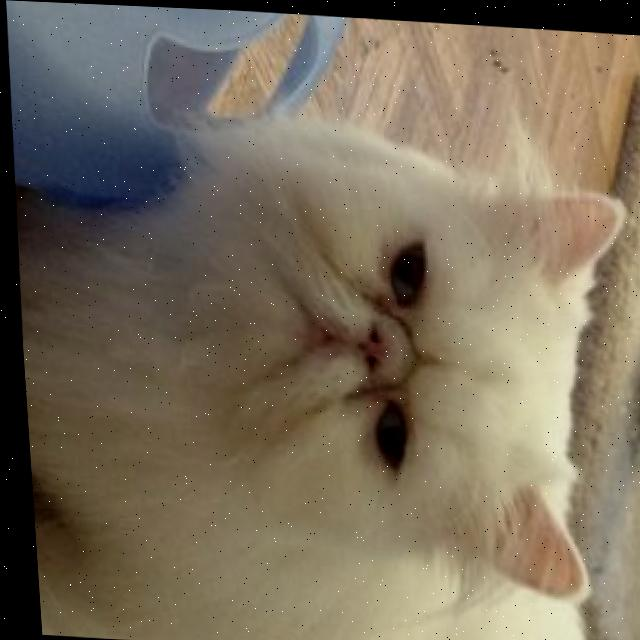Persian: (5, 96, 640, 640)
